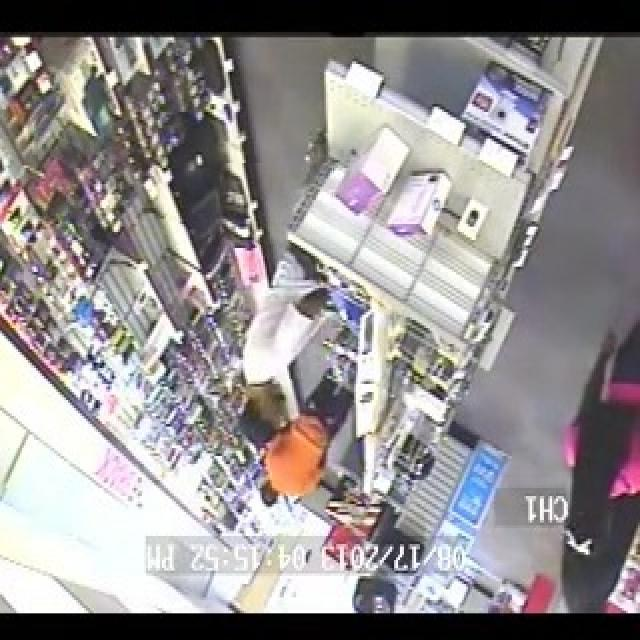normal: (220, 163, 335, 447)
